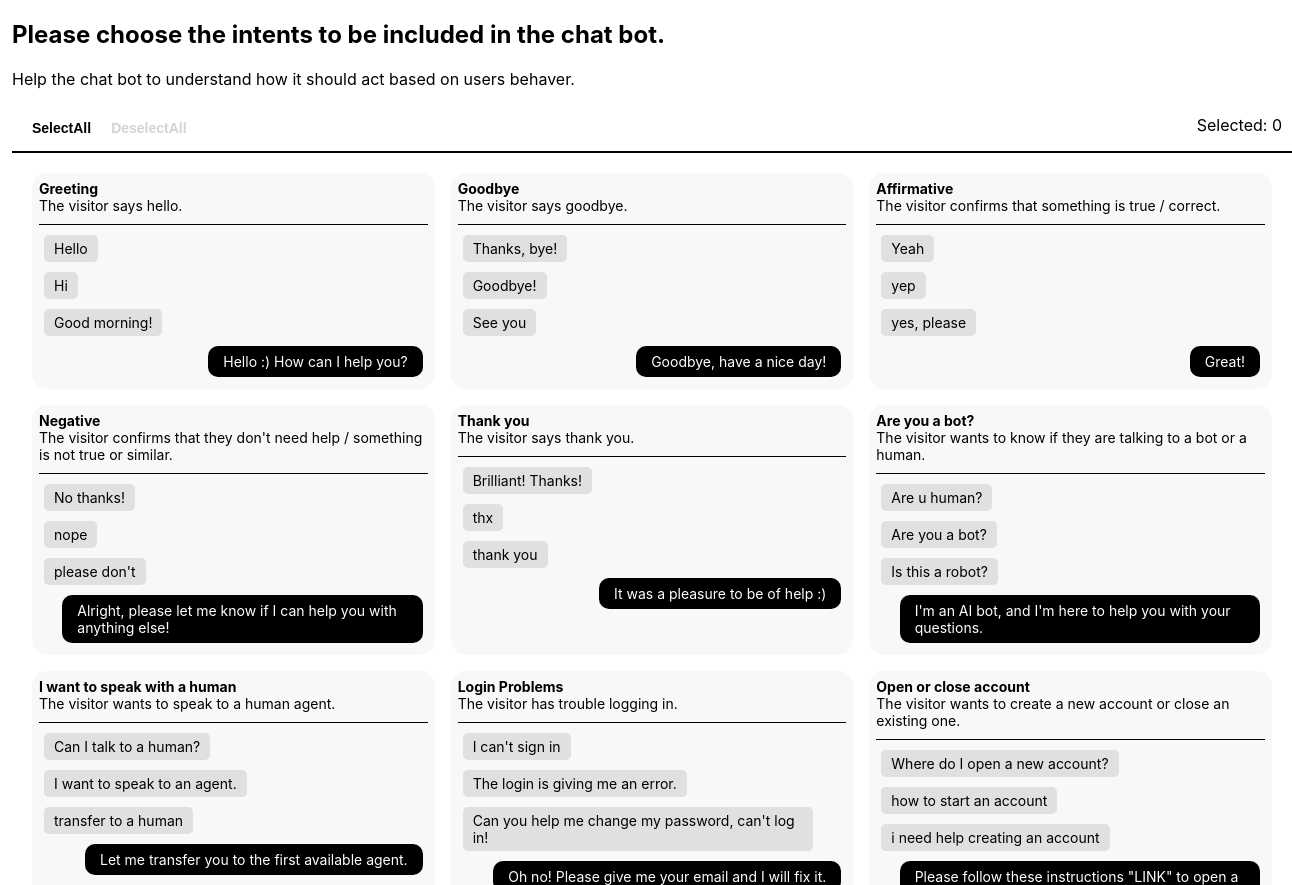
Test case: Intents › Should be able to select all items
The width and height of the screenshot is (1292, 885).
# Click the SelectAll button
Click the button "SelectAll" at coordinates (62, 128), box x1=22 y1=115 x2=101 y2=141
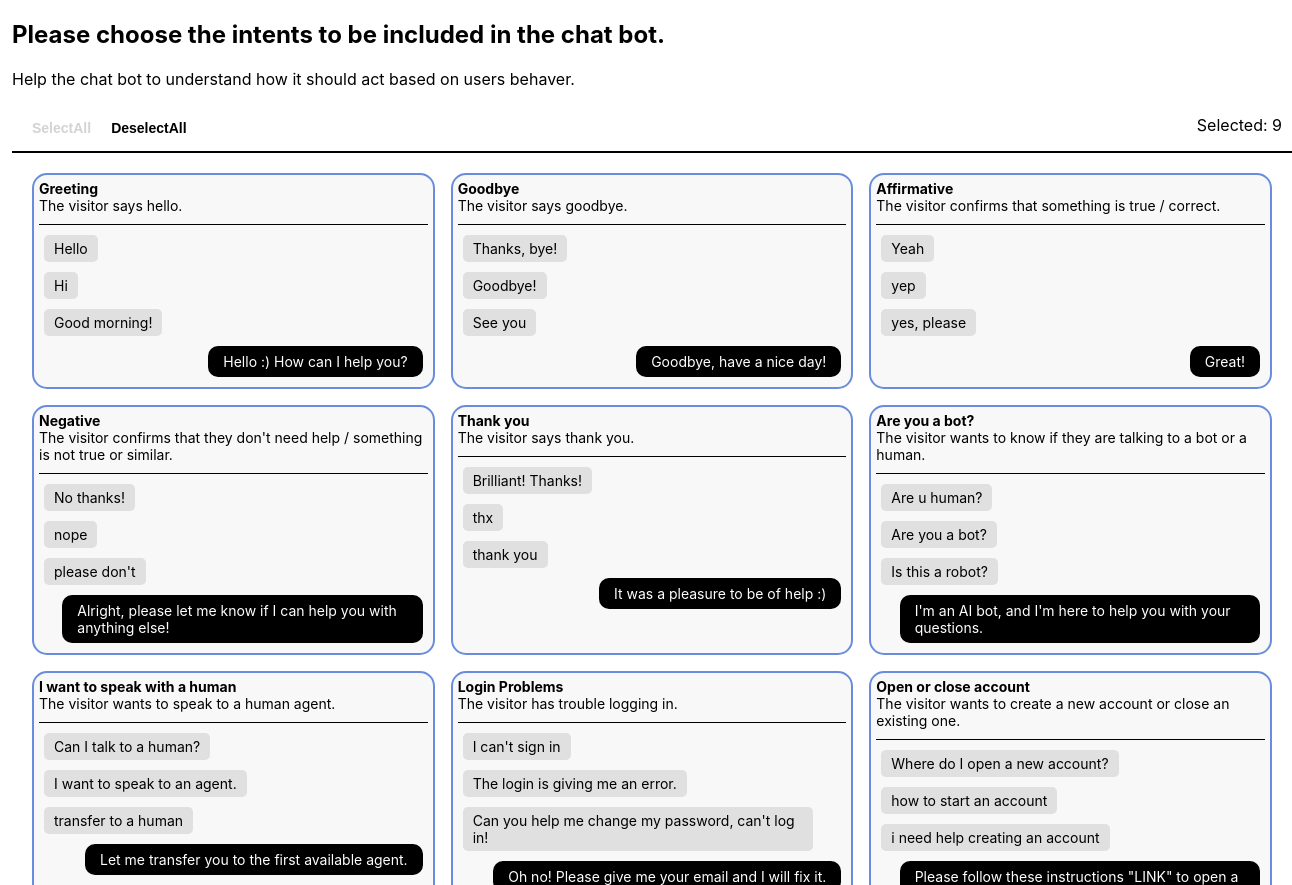
Now the number of elements with test id "selected" is 9
